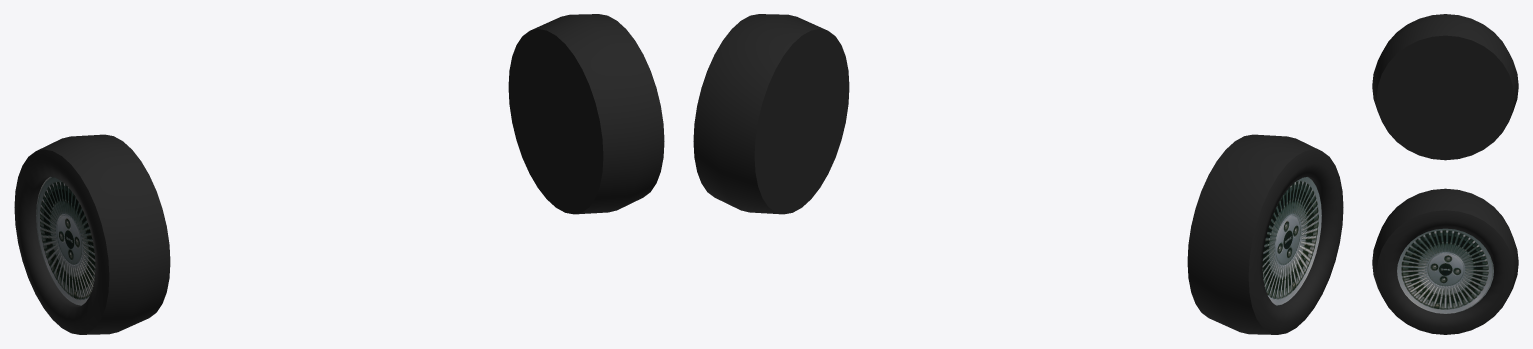
File: VorderAchse.dae
The picture shows the model from 3 angles, left to right: view 1: azimuth 30°, elevation 25°; view 2: azimuth 150°, elevation 25°; view 3: azimuth 270°, elevation 25°; orthographic projection. The views are drawn at different scales.
Visible parts, largest first — view 1: VorderAchse; view 2: VorderAchse; view 3: VorderAchse.
Boxes of the visible parts, <box> form: VorderAchse: <box>14,14,664,334</box>; VorderAchse: <box>693,14,1343,334</box>; VorderAchse: <box>1372,14,1518,334</box>.
Bounding box in the file's own units: 198 × 61.58 × 61.57.
Materials: 1 (1 with a texture image).
